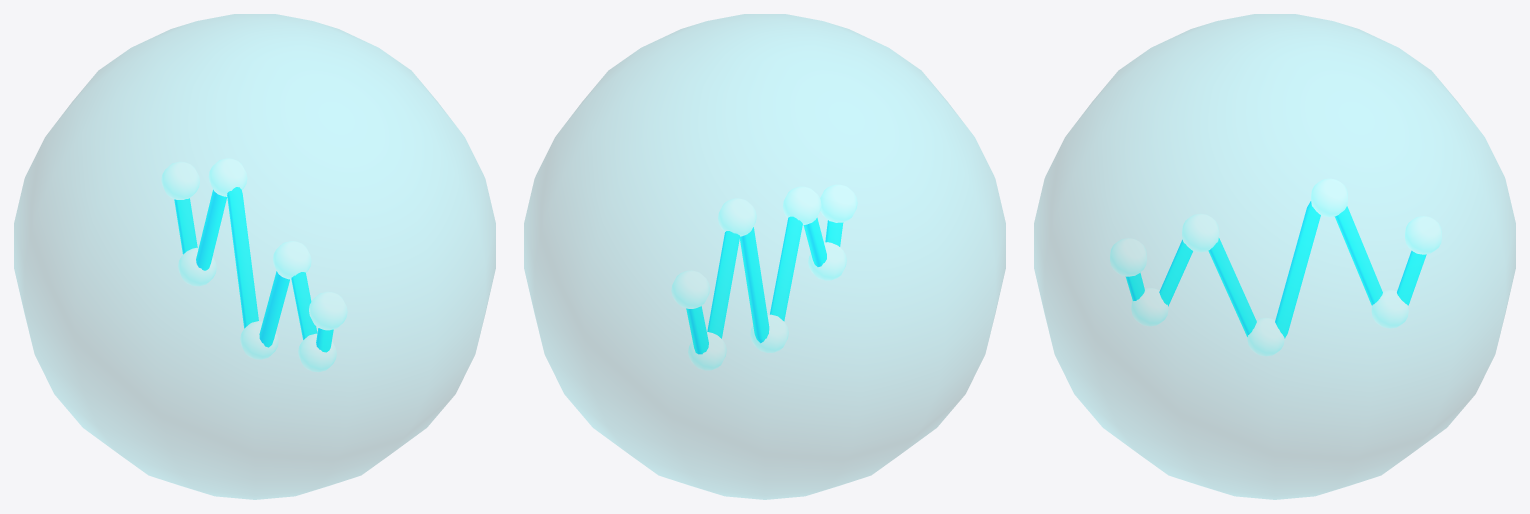
File: orb.glb
3 renders of one model, left to right at view 1: azimuth 30°, elevation 25°; view 2: azimuth 150°, elevation 25°; view 3: azimuth 270°, elevation 25°, orthographic.
Parts seen in each view (by area): view 1: pSphere122 brainwave_orb1, brainwave_orb1 brainwave1 pCylinder13, brainwave_orb1 brainwave1 pSphere130, brainwave_orb1 pSphere123 brainwave1, brainwave_orb1 brainwave1 pSphere128, brainwave_orb1 brainwave1 pSphere125, brainwave_orb1 brainwave1 pSphere129, brainwave_orb1 brainwave1 pSphere126, brainwave_orb1 brainwave1 pSphere127; view 2: pSphere122 brainwave_orb1, brainwave_orb1 brainwave1 pCylinder13, brainwave_orb1 pSphere123 brainwave1, brainwave_orb1 brainwave1 pSphere130, brainwave_orb1 brainwave1 pSphere125, brainwave_orb1 brainwave1 pSphere128, brainwave_orb1 brainwave1 pSphere126, brainwave_orb1 brainwave1 pSphere129, brainwave_orb1 brainwave1 pSphere127; view 3: pSphere122 brainwave_orb1, brainwave_orb1 brainwave1 pCylinder13, brainwave_orb1 pSphere123 brainwave1, brainwave_orb1 brainwave1 pSphere130, brainwave_orb1 brainwave1 pSphere128, brainwave_orb1 brainwave1 pSphere125, brainwave_orb1 brainwave1 pSphere127, brainwave_orb1 brainwave1 pSphere126, brainwave_orb1 brainwave1 pSphere129.
Part boxes in pixels (x1=…): pSphere122 brainwave_orb1: x1=14, y1=14, x2=495, y2=499; brainwave_orb1 brainwave1 pCylinder13: x1=174, y1=187, x2=333, y2=352; brainwave_orb1 brainwave1 pSphere130: x1=309, y1=291, x2=347, y2=330; brainwave_orb1 pSphere123 brainwave1: x1=161, y1=161, x2=199, y2=199; brainwave_orb1 brainwave1 pSphere128: x1=272, y1=241, x2=311, y2=279; brainwave_orb1 brainwave1 pSphere125: x1=208, y1=158, x2=247, y2=196; brainwave_orb1 brainwave1 pSphere129: x1=298, y1=333, x2=336, y2=372; brainwave_orb1 brainwave1 pSphere126: x1=178, y1=247, x2=216, y2=286; brainwave_orb1 brainwave1 pSphere127: x1=240, y1=321, x2=278, y2=359; pSphere122 brainwave_orb1: x1=524, y1=14, x2=1005, y2=499; brainwave_orb1 brainwave1 pCylinder13: x1=686, y1=216, x2=843, y2=354; brainwave_orb1 pSphere123 brainwave1: x1=671, y1=270, x2=709, y2=308; brainwave_orb1 brainwave1 pSphere130: x1=820, y1=184, x2=857, y2=222; brainwave_orb1 brainwave1 pSphere125: x1=718, y1=198, x2=756, y2=236; brainwave_orb1 brainwave1 pSphere128: x1=782, y1=186, x2=821, y2=224; brainwave_orb1 brainwave1 pSphere126: x1=688, y1=332, x2=726, y2=370; brainwave_orb1 brainwave1 pSphere129: x1=808, y1=242, x2=846, y2=280; brainwave_orb1 brainwave1 pSphere127: x1=750, y1=314, x2=788, y2=352; pSphere122 brainwave_orb1: x1=1034, y1=14, x2=1515, y2=499; brainwave_orb1 brainwave1 pCylinder13: x1=1125, y1=201, x2=1426, y2=338; brainwave_orb1 pSphere123 brainwave1: x1=1405, y1=216, x2=1441, y2=254; brainwave_orb1 brainwave1 pSphere130: x1=1110, y1=238, x2=1146, y2=276; brainwave_orb1 brainwave1 pSphere128: x1=1182, y1=213, x2=1219, y2=252; brainwave_orb1 brainwave1 pSphere125: x1=1311, y1=178, x2=1347, y2=217; brainwave_orb1 brainwave1 pSphere127: x1=1247, y1=317, x2=1284, y2=356; brainwave_orb1 brainwave1 pSphere126: x1=1371, y1=290, x2=1408, y2=328; brainwave_orb1 brainwave1 pSphere129: x1=1131, y1=288, x2=1168, y2=326.
Bounding box in the file's own units: 0.291 × 0.2958 × 0.2926.
Materials: 2 (2 with a texture image).
